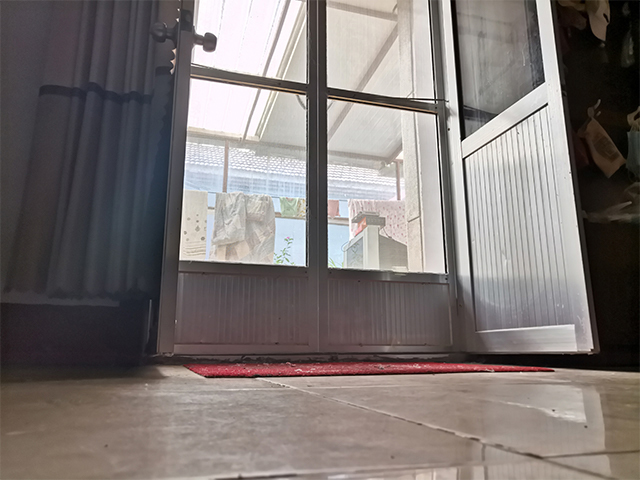carpet: (182, 360, 558, 377)
curtain: (7, 1, 167, 303)
